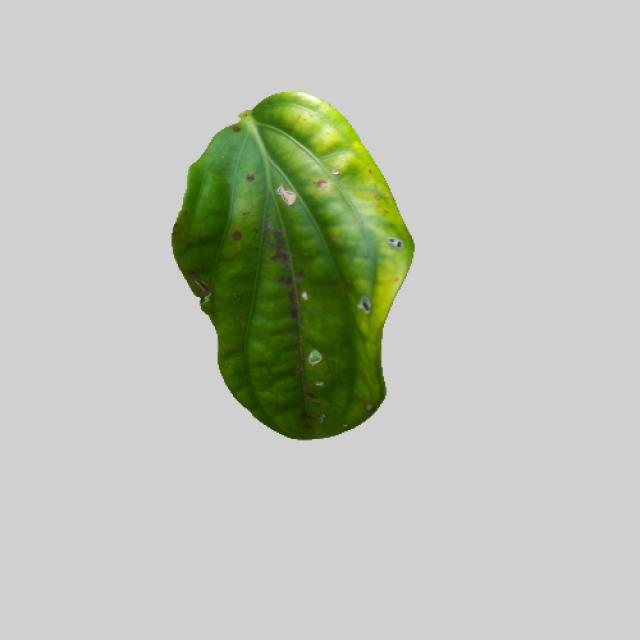yellow-mottle-virus: (160, 90, 419, 440)
